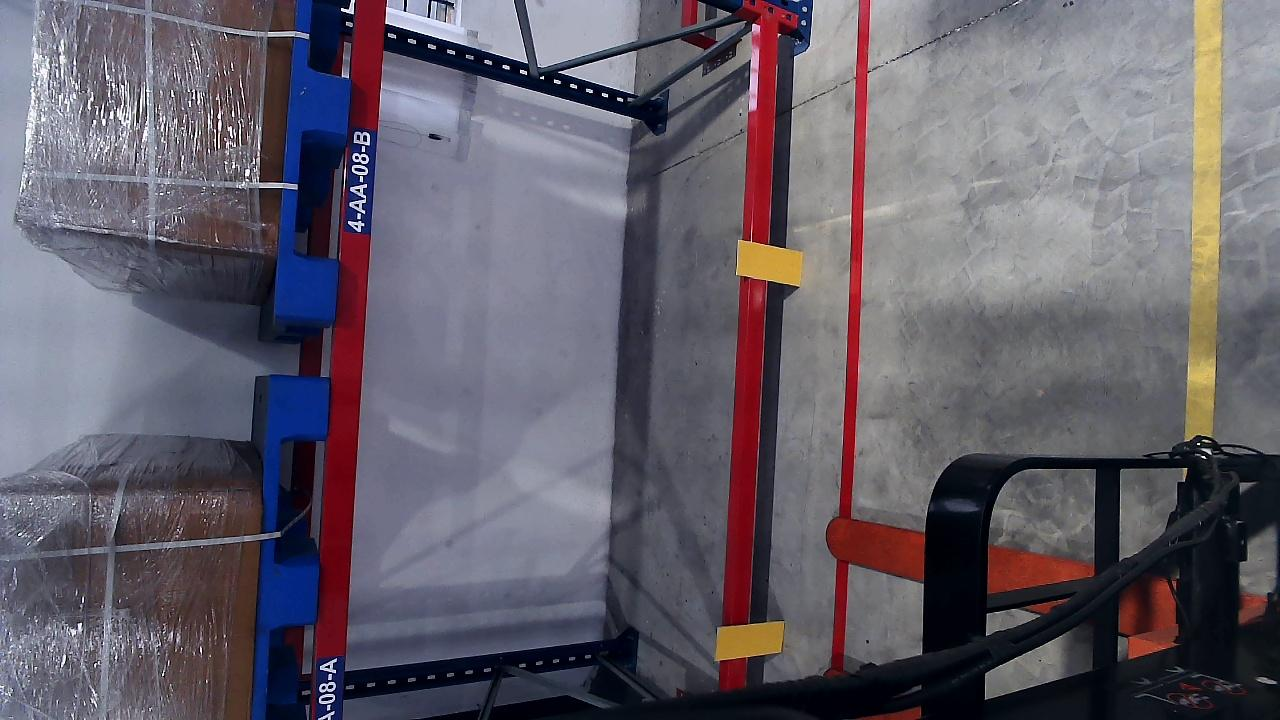h_rack: (315, 0, 387, 720), (721, 18, 777, 685)
orange_strip: (735, 240, 802, 286), (715, 620, 785, 659)
red_line: (835, 0, 871, 671)
small_pallet: (249, 377, 330, 720), (286, 0, 349, 319)
yellow_line: (1184, 0, 1224, 440)
